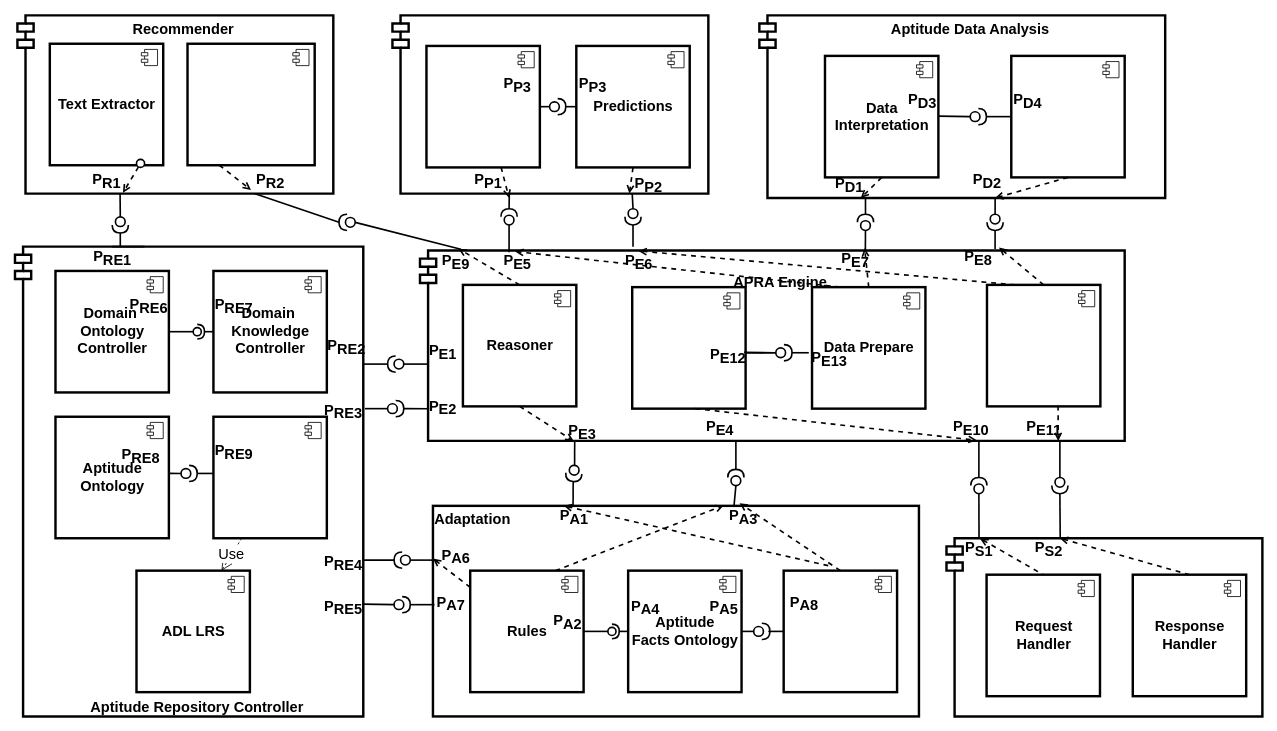
Some shapes in this 1277 by 731 pixel diagram are drawn without their labels. Here are the shapes that lost their labels. From the top down, the box of each, then its label:
(186, 42, 315, 166): Recommendation Interface
(425, 44, 541, 168): Predictive Modeling
(391, 14, 709, 194): Predictive Analysis
(1010, 54, 1125, 178): Statistics
(631, 286, 746, 409): Data Extract
(985, 283, 1101, 407): Data Visualization
(212, 415, 328, 539): Learner Knowledge Controller
(782, 569, 898, 693): Adaptation Interface
(945, 537, 1263, 717): Aptitude Server Controller
